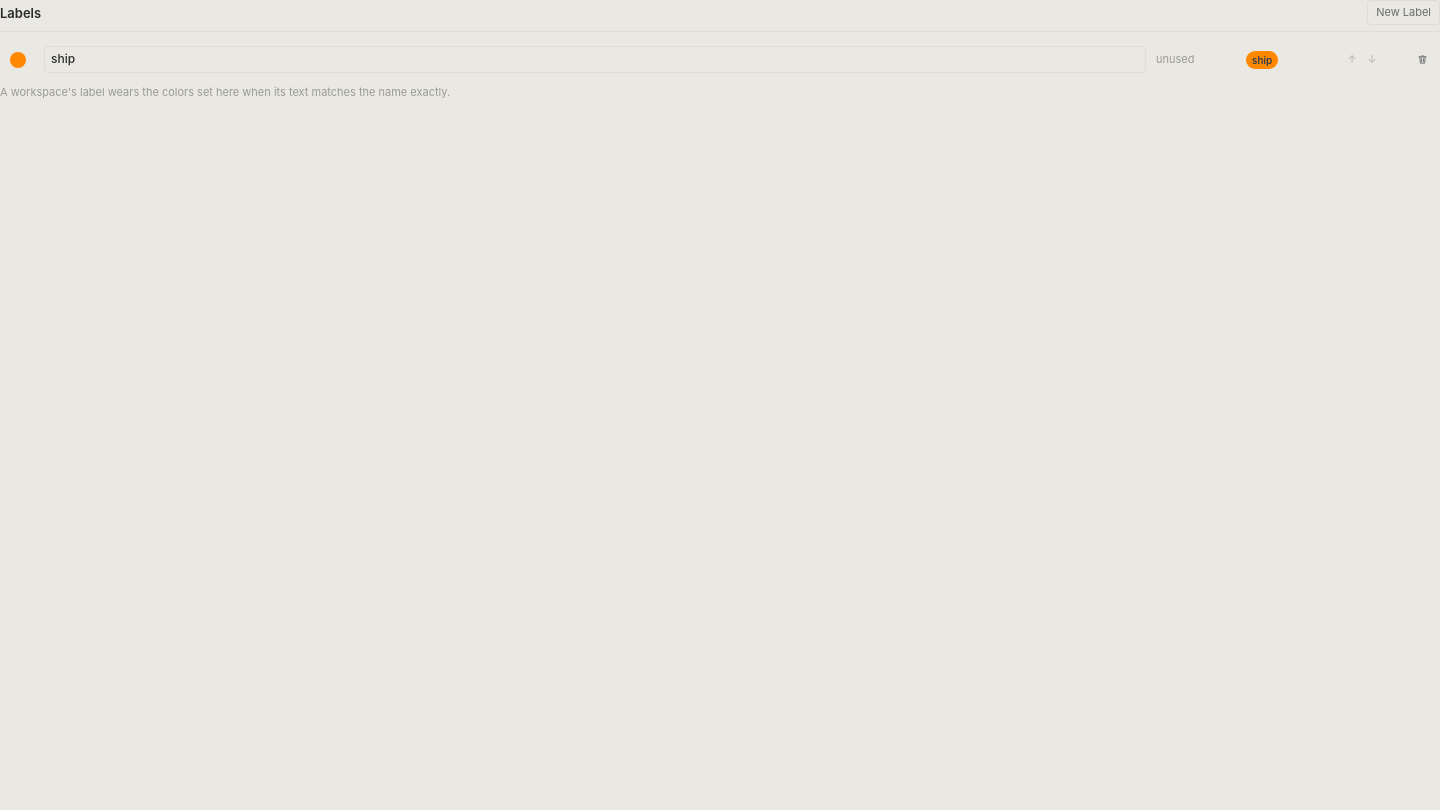
Test: the custom view (§N38) › preserves the other section while one is being edited
Click the button with test id "label-color-ship-trigger" at {"x": 18, "y": 60}, box left=10, top=52, right=26, bottom=68
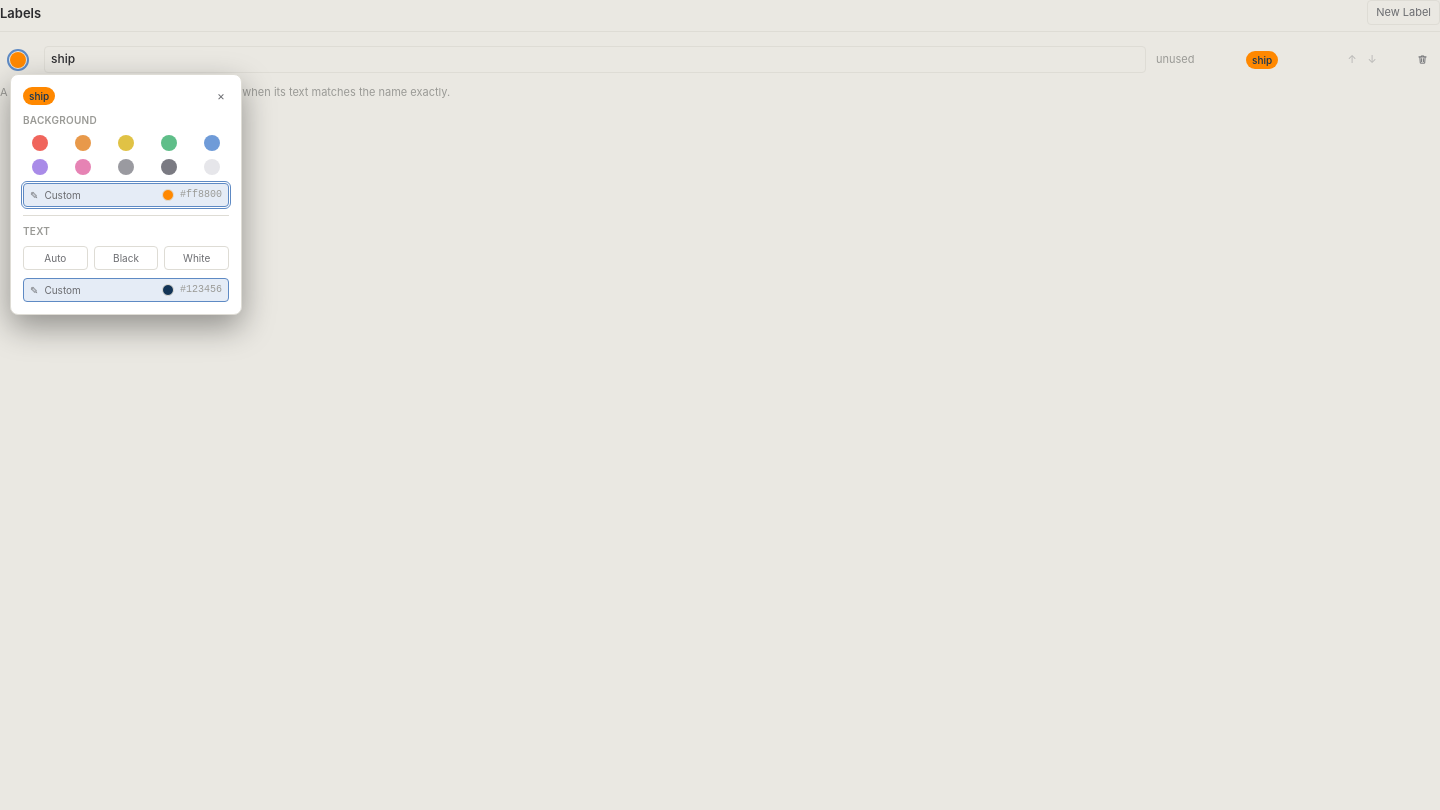
Click the button with test id "label-flyover-bg-custom" at {"x": 126, "y": 195}, box left=23, top=183, right=229, bottom=207
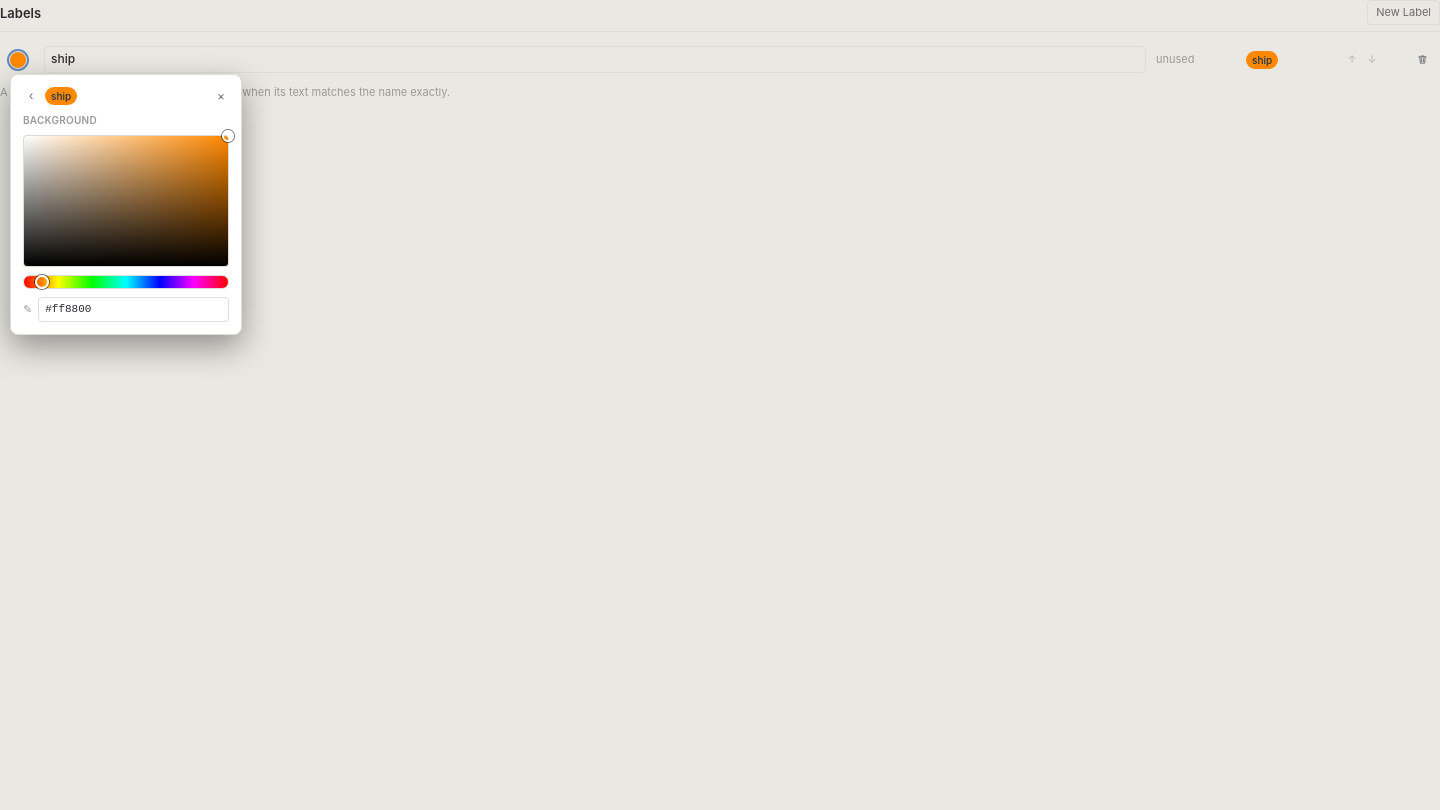
Now the field with test id "label-flyover-hex" holds "#ff8800"
Replace the text in the field with test id "label-flyover-hex" with "#00ff00" at {"x": 134, "y": 310}, box left=38, top=297, right=229, bottom=322
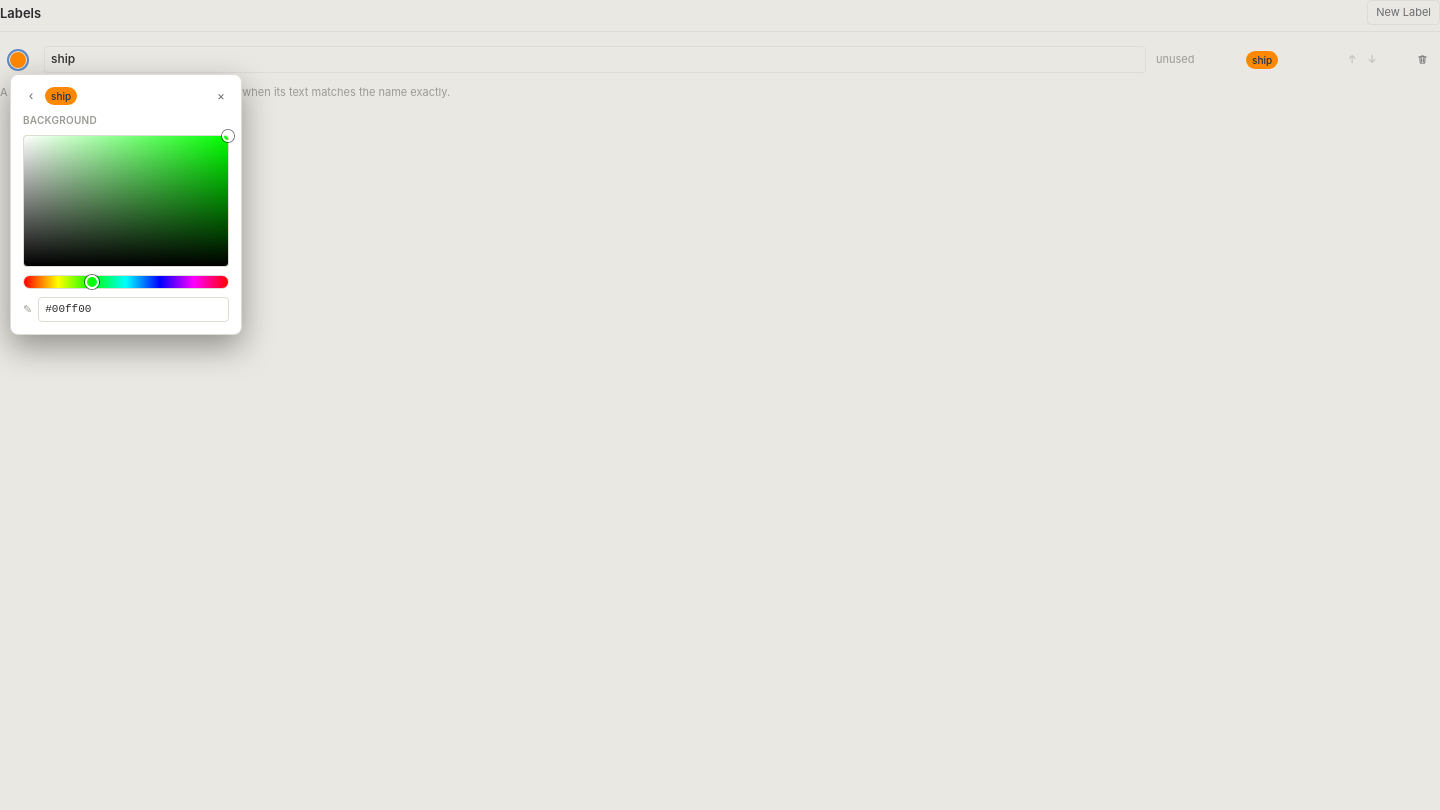
Click the button with test id "label-flyover-back" at {"x": 31, "y": 96}, box left=21, top=86, right=41, bottom=106
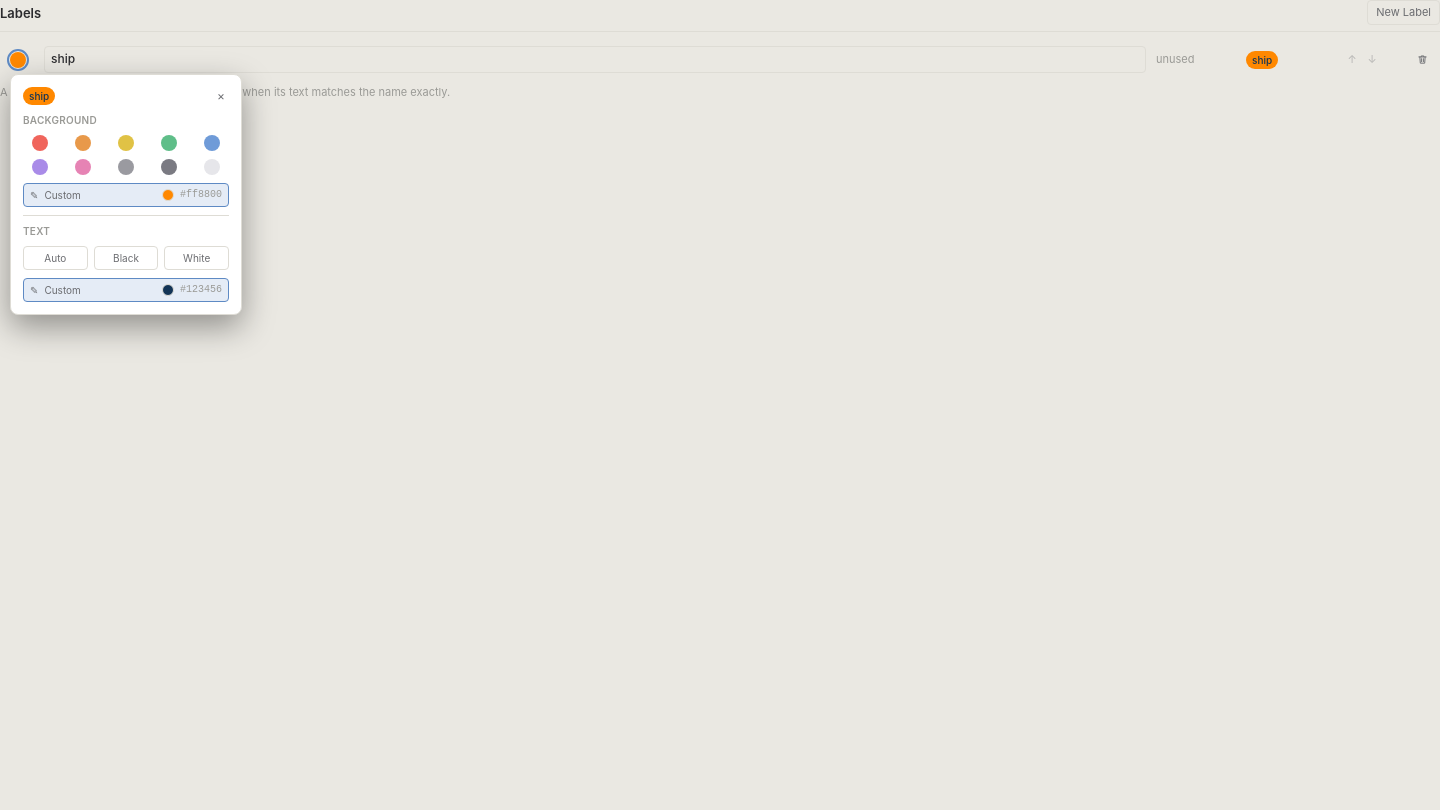
Now the text with test id "label-flyover-text-custom-hex" reads "#123456", box left=180, top=284, right=222, bottom=295
Click the button with test id "label-flyover-text-custom" at {"x": 126, "y": 290}, box left=23, top=278, right=229, bottom=302
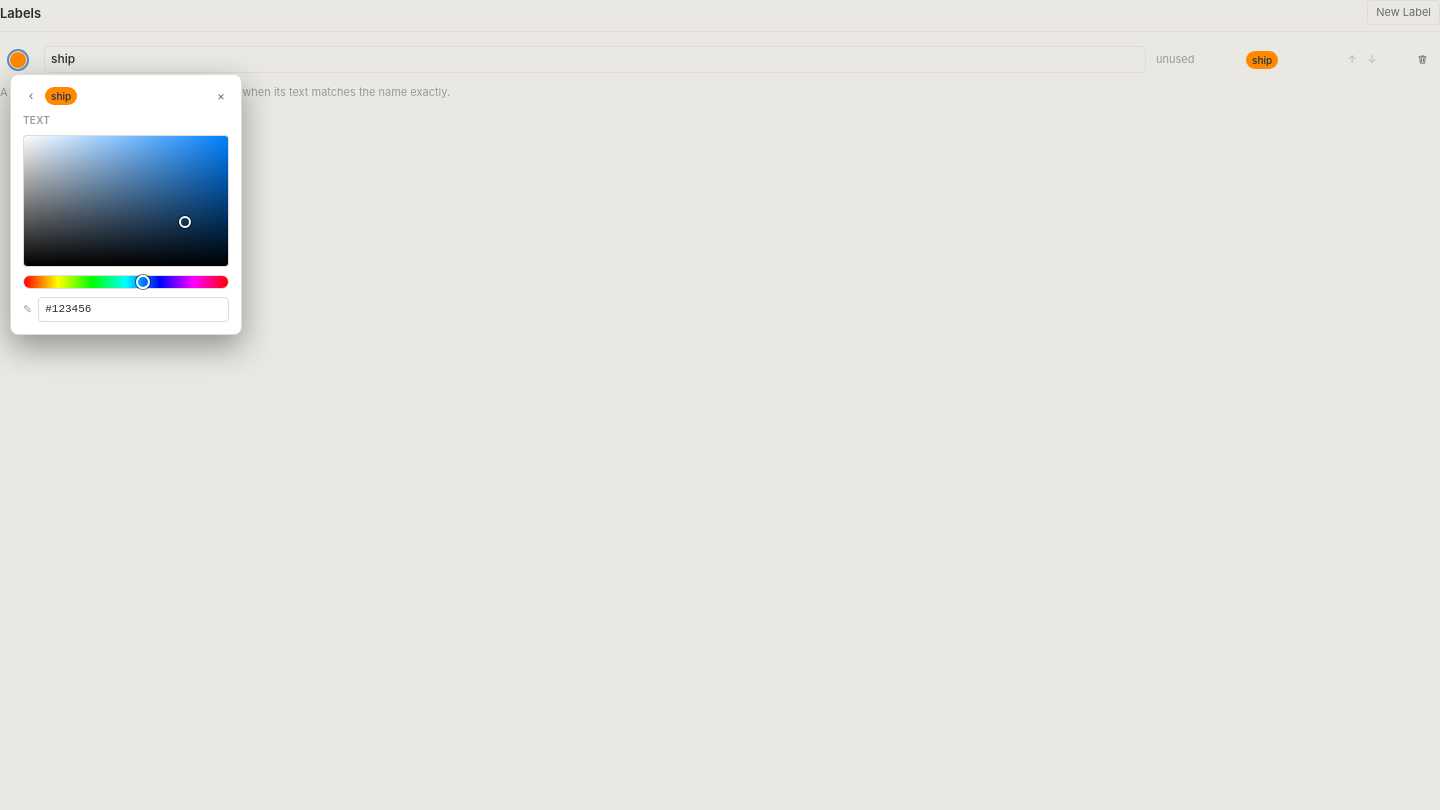
Now the field with test id "label-flyover-hex" holds "#123456", box left=38, top=297, right=229, bottom=322
